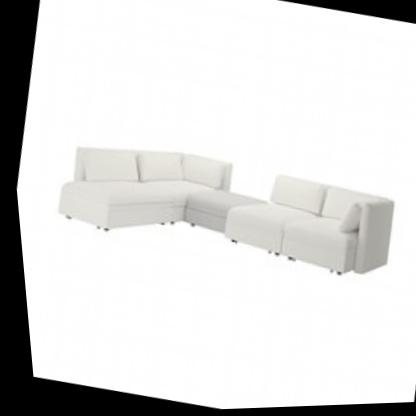Sofa: (35, 107, 401, 303)
